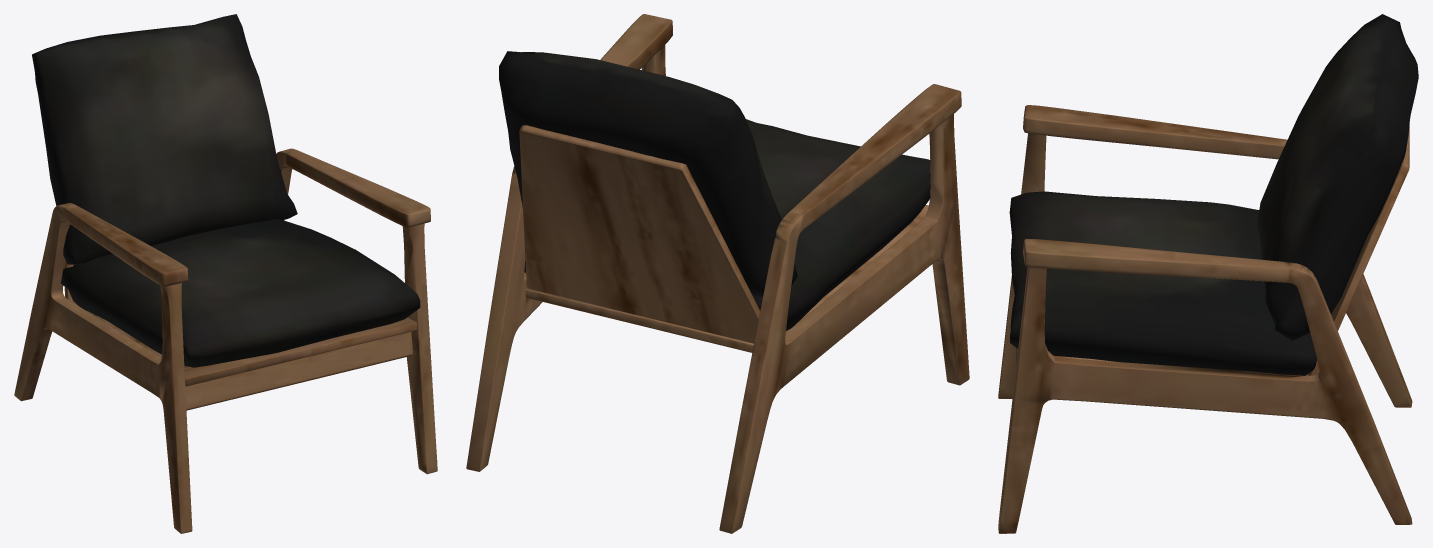
The model's file is modern_arm_chair_01_1k.glb.
3 renders of one model, left to right at view 1: azimuth 30°, elevation 25°; view 2: azimuth 150°, elevation 25°; view 3: azimuth 270°, elevation 25°, orthographic. The views are drawn at different scales.
Visible parts, largest first — view 1: modern_arm_chair_01; view 2: modern_arm_chair_01; view 3: modern_arm_chair_01.
Boxes of the visible parts, x1,y1,x2,y2 form: modern_arm_chair_01: (14, 14, 437, 533); modern_arm_chair_01: (466, 14, 969, 533); modern_arm_chair_01: (998, 14, 1418, 533).
Bounding box in the file's own units: 0.8203 × 1.02 × 0.9865.
Materials: 2 (2 with a texture image).
